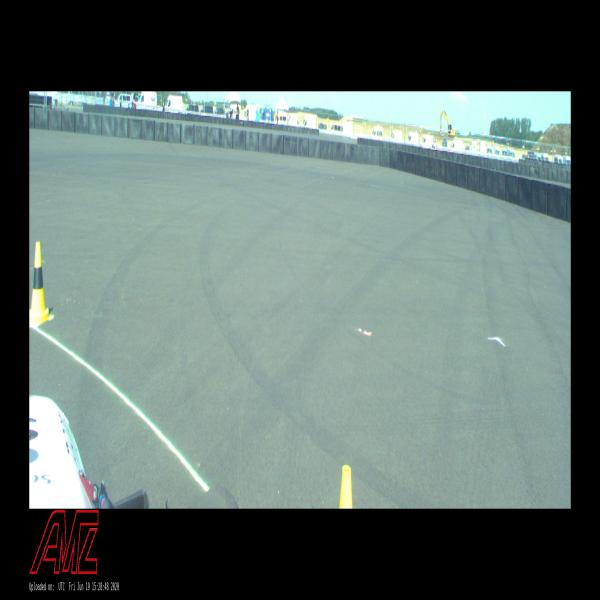yellow_cone: (29, 242, 51, 325)
